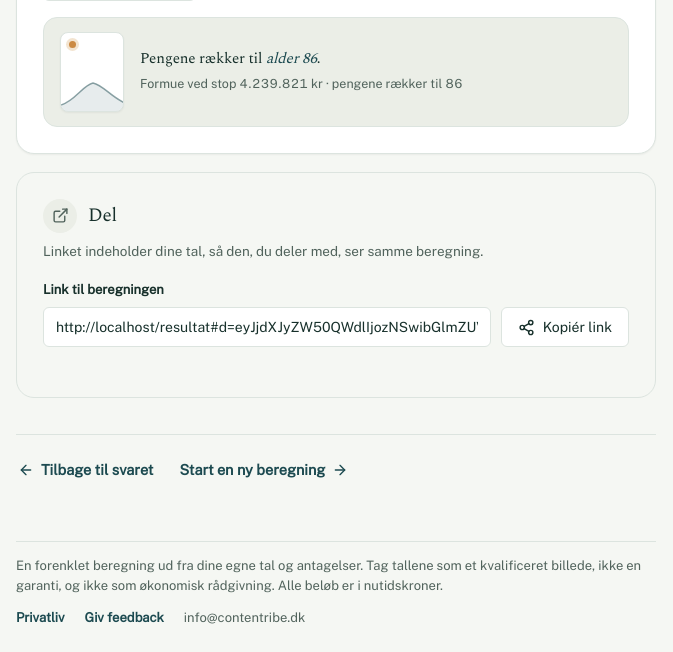
share-link copy state › shows the success state only when the clipboard write actually succeeds
(page scrolled)
What coordinates should you click on to do the following:
click the button "Kopiér link"
I would click on:
 (565, 327)
Its box is left=501, top=307, right=629, bottom=347.
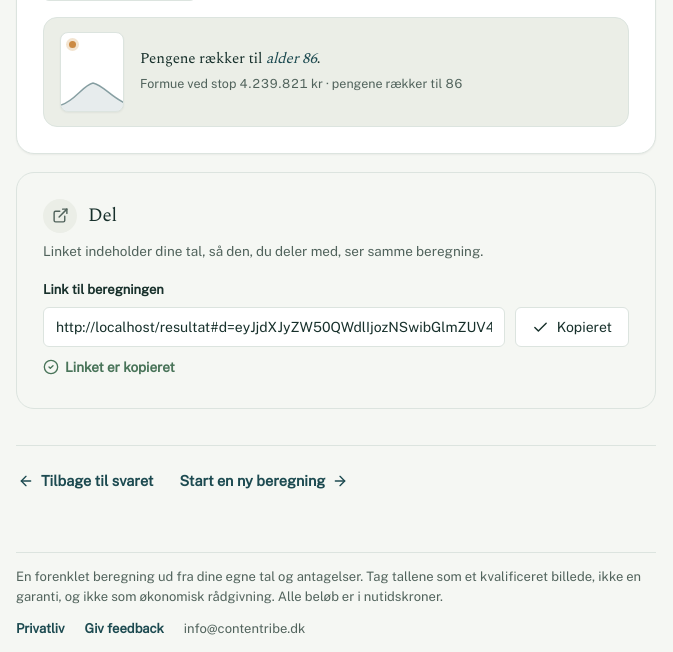
Now the text "Linket er kopieret" is shown, box left=43, top=357, right=175, bottom=377
